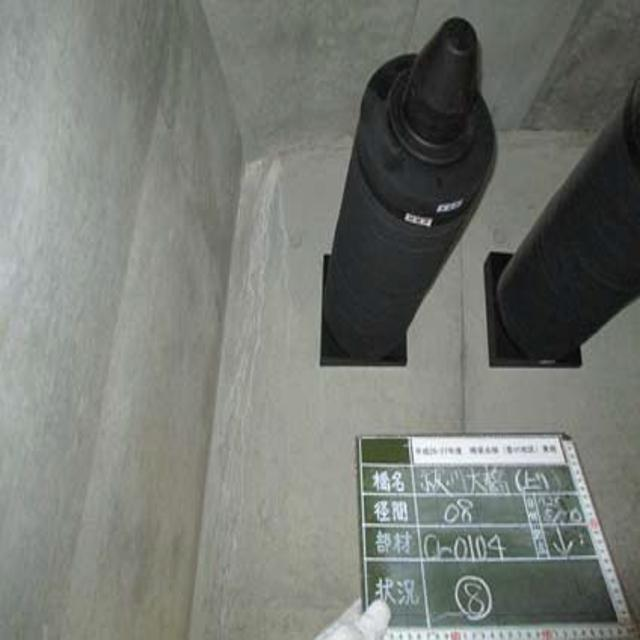freelime: (234, 147, 279, 340)
